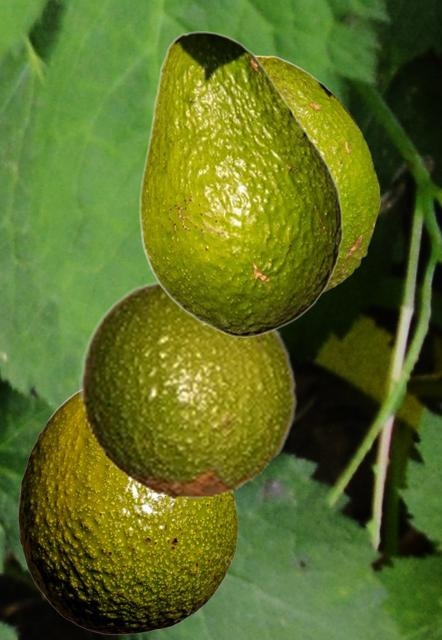avocado: (139, 31, 342, 336), (18, 390, 237, 633), (79, 278, 298, 499), (257, 54, 379, 294)
